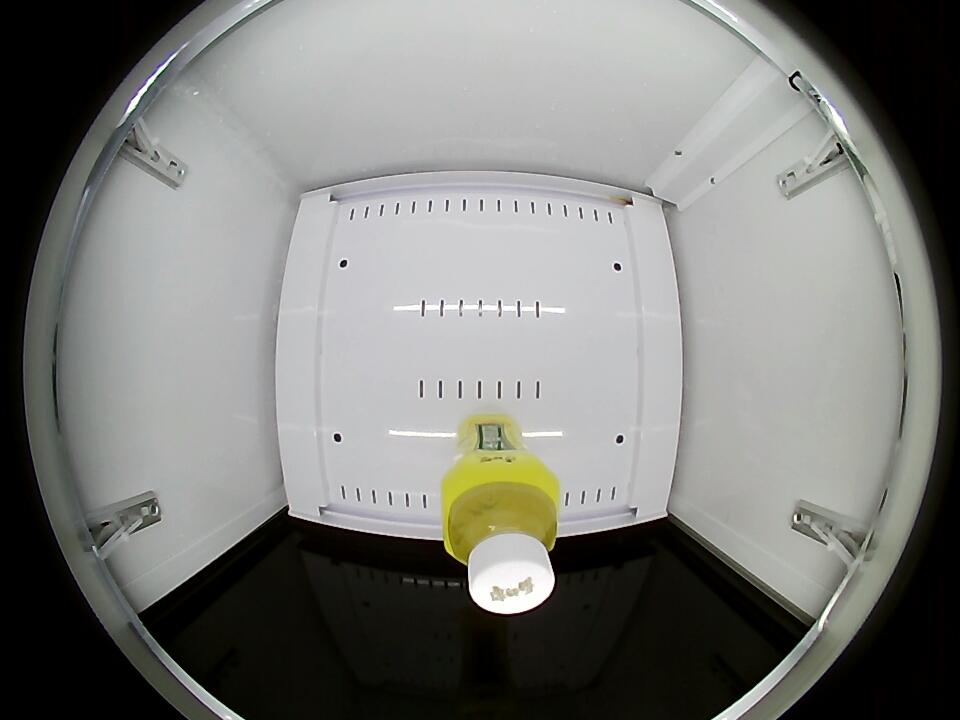bingtangxueli: (441, 458, 562, 615)
